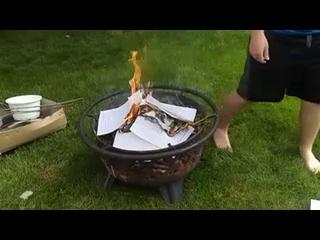Fire: (118, 32, 150, 125)
